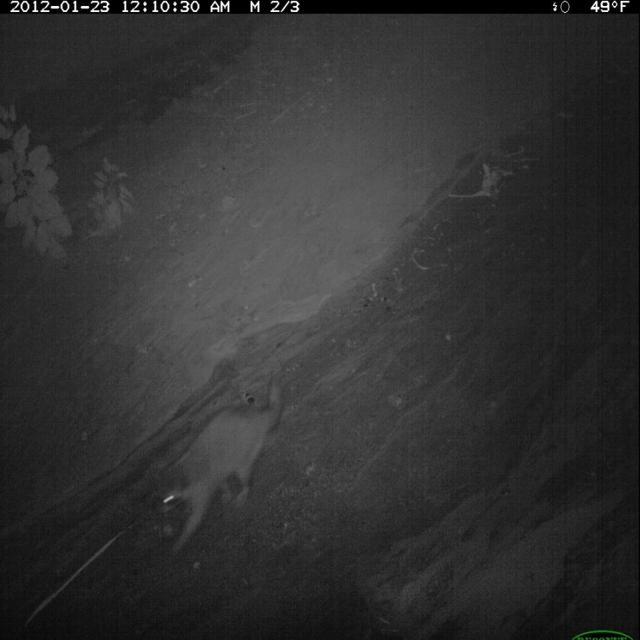raccoon: (156, 368, 287, 564)
